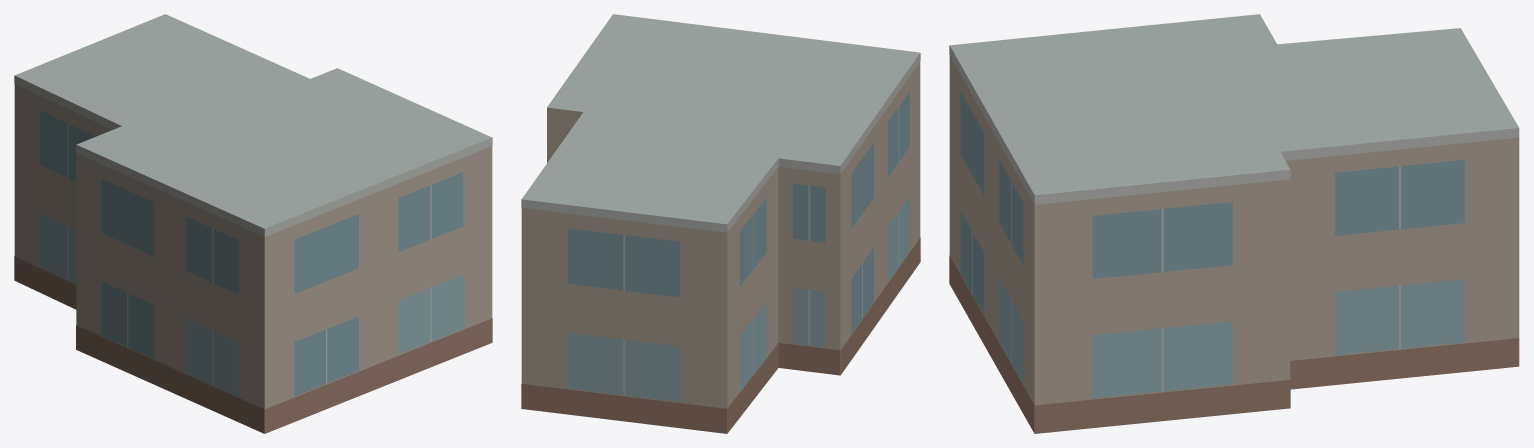
The model's file is survey-upis-32804831.glb.
3 views of the same model, side by side, from view 1: azimuth 30°, elevation 25°; view 2: azimuth 150°, elevation 25°; view 3: azimuth 270°, elevation 25° (orthographic). The views are drawn at different scales.
Visible parts, largest first — view 1: survey-upis-32804831.tmp; view 2: survey-upis-32804831.tmp; view 3: survey-upis-32804831.tmp.
Part boxes in pixels (x1,y1,x2,y2): survey-upis-32804831.tmp: (14,14,492,433); survey-upis-32804831.tmp: (521,14,920,433); survey-upis-32804831.tmp: (949,14,1519,433).
Size of the model in its own units: 9.95 by 6.1 by 13.21.
